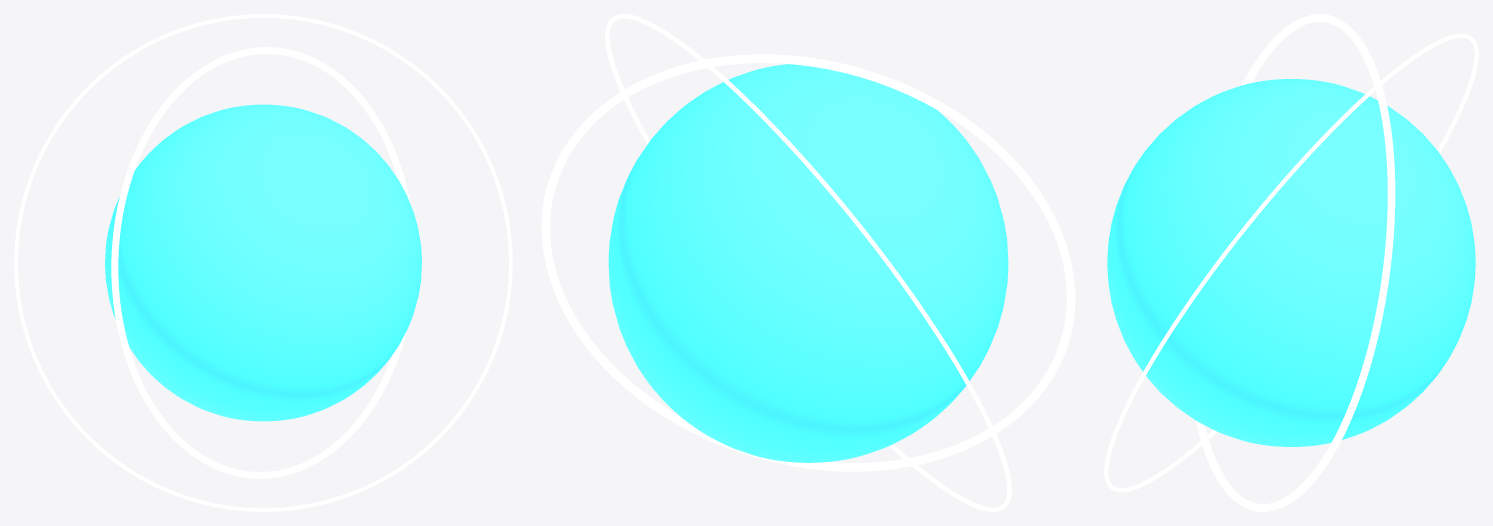
File: orb.glb
The picture shows the model from 3 angles, left to right: view 1: azimuth 30°, elevation 25°; view 2: azimuth 150°, elevation 25°; view 3: azimuth 270°, elevation 25°; orthographic projection. The views are drawn at different scales.
Visible parts, largest first — view 1: orb, band, band2; view 2: orb, band, band2; view 3: orb, band, band2.
Boxes of the visible parts, <box> form: orb: <box>105,104,421,421</box>; band: <box>111,47,410,478</box>; band2: <box>14,14,512,511</box>; orb: <box>608,64,1008,462</box>; band: <box>541,54,1075,471</box>; band2: <box>605,14,1011,511</box>; orb: <box>1107,79,1475,446</box>; band: <box>1196,14,1395,511</box>; band2: <box>1104,33,1478,492</box>.
Size of the model in its own units: 2.82 by 2.78 by 2.03.
